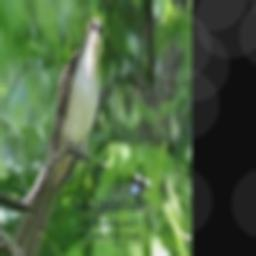Cuckoo: (7, 19, 104, 256)
